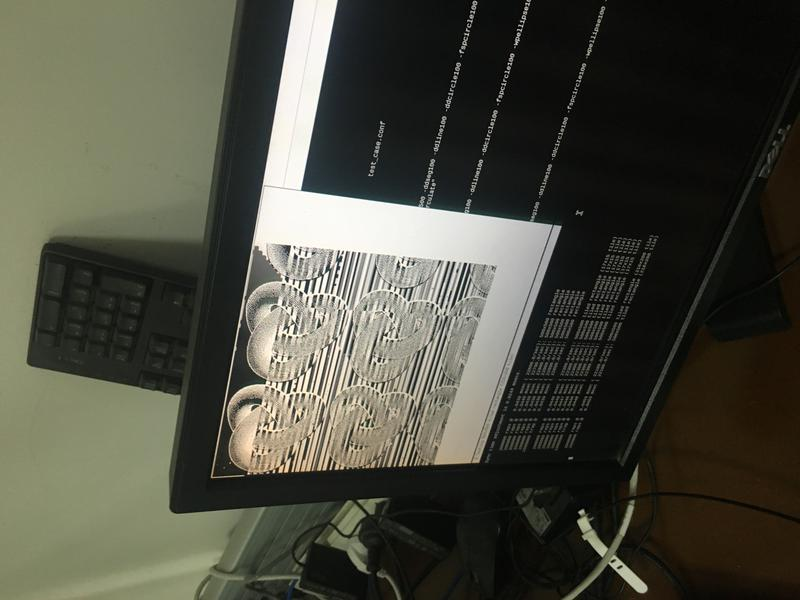xrandr_pass: (185, 159, 566, 478)
